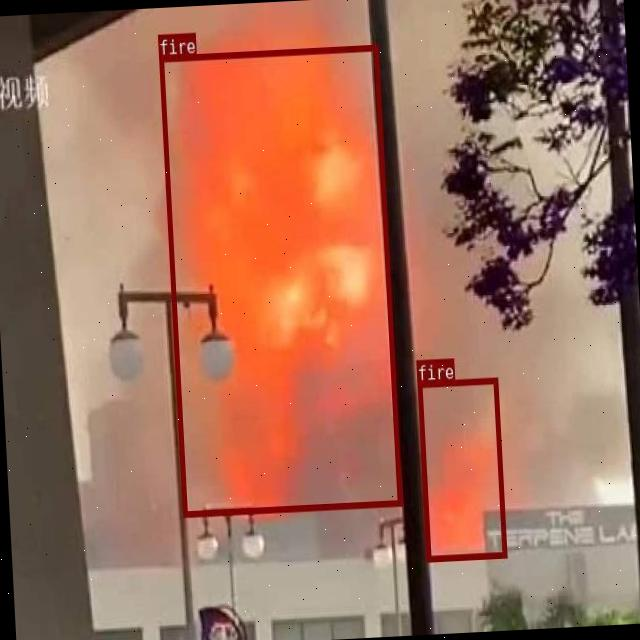fire: (158, 44, 402, 516), (418, 376, 506, 561)
